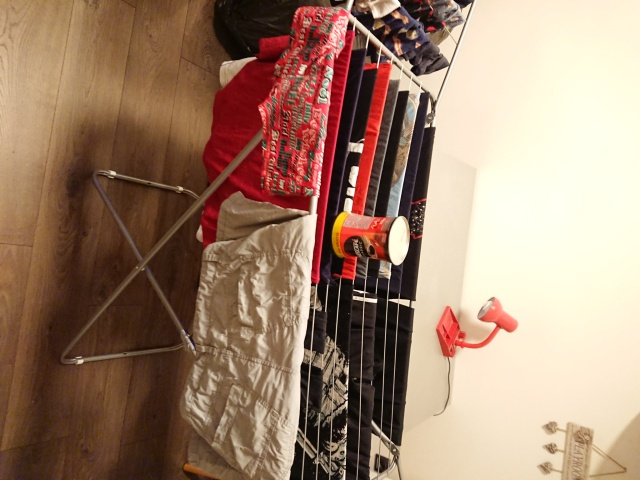Nescafe Classic 225g: (327, 208, 413, 269)
